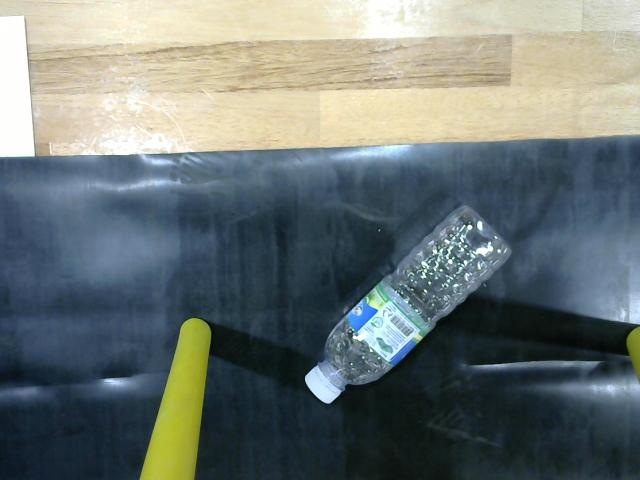bottle: (292, 195, 523, 414)
